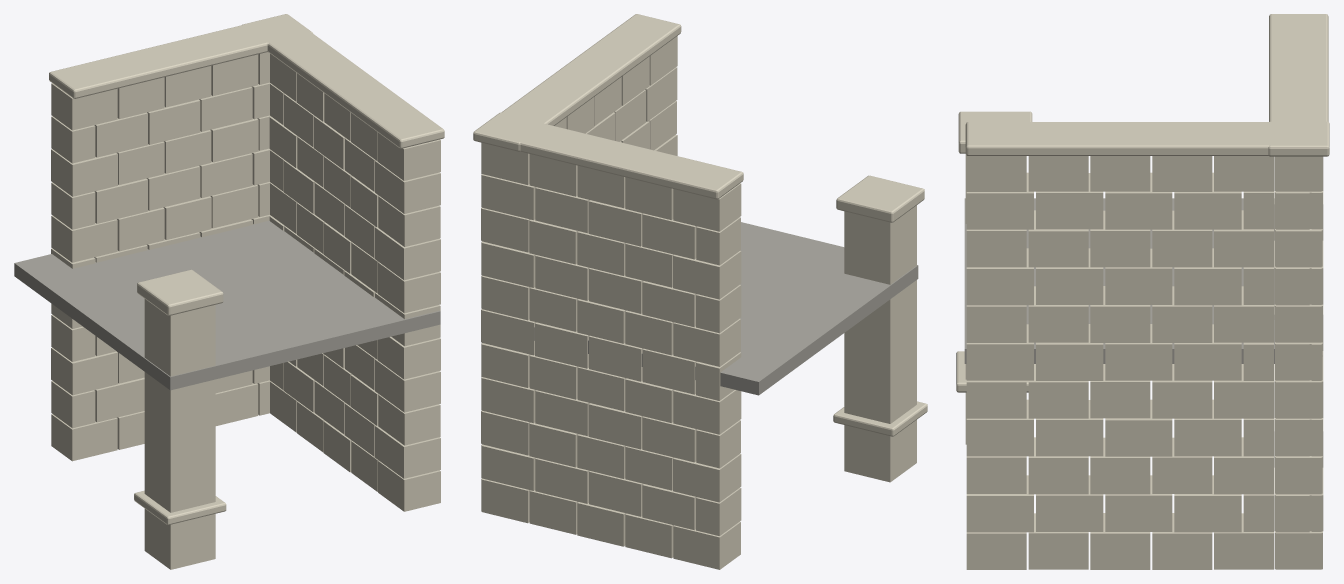
Rendered from monastery_cloister_arcade_corner.glb.
3 views of the same model, side by side, from view 1: azimuth 30°, elevation 25°; view 2: azimuth 150°, elevation 25°; view 3: azimuth 270°, elevation 25° (orthographic). The views are drawn at different scales.
Parts seen in each view (by area): view 1: world; view 2: world; view 3: world.
Part boxes in pixels (left/top/right/bottom): world: left=14, top=14, right=444, bottom=569; world: left=473, top=14, right=927, bottom=569; world: left=956, top=14, right=1329, bottom=569.
Bounding box in the file's own units: 1.59 × 2 × 1.59.
